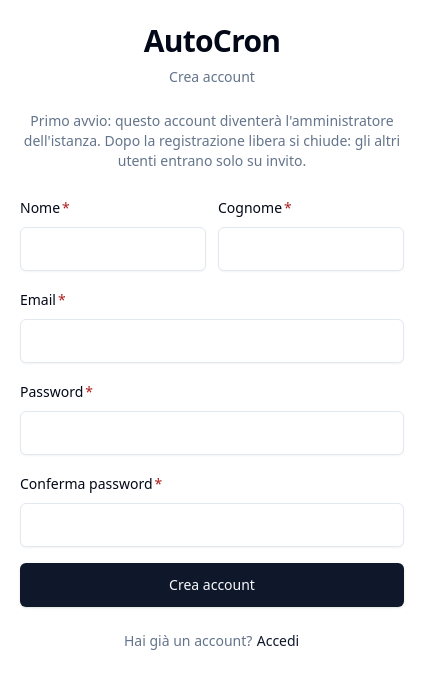
Test: RegisterPage — errori del server › un 422 su password compare sotto il campo, senza alert generico
In the field labelled "Nome*": (113, 249) [20, 227, 206, 271], type "Anna"
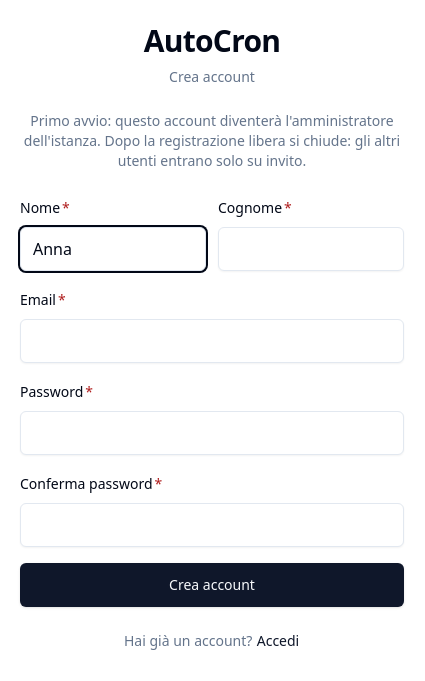
In the field labelled "Cognome*": (311, 249) [218, 227, 404, 271], type "Neri"
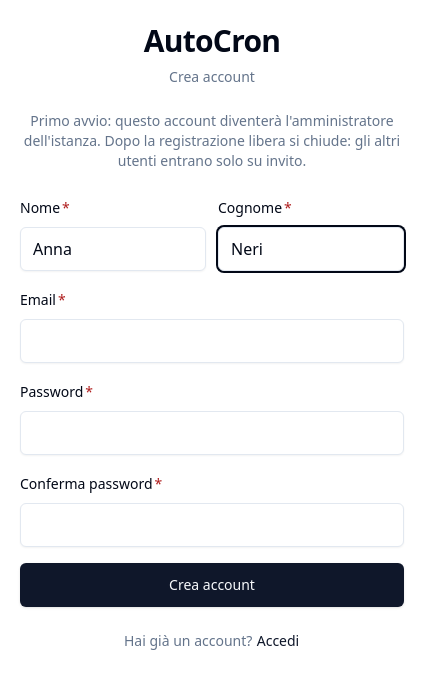
In the field labelled "Email*": (212, 341) [20, 319, 404, 363], type "anna@test.it"
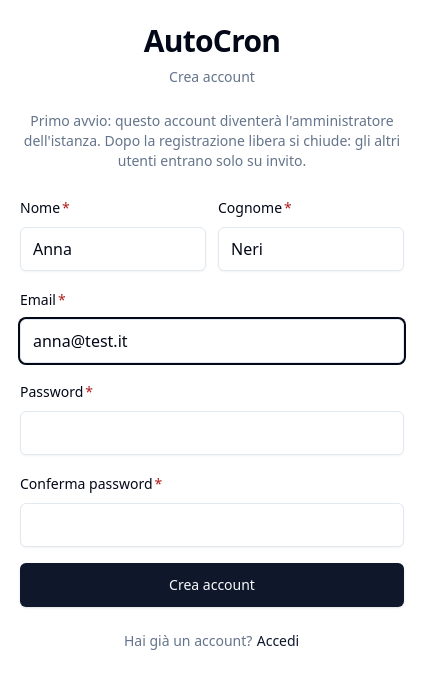
In the password field labelled "Password*": (212, 433) [20, 411, 404, 455], type "segreta-123"
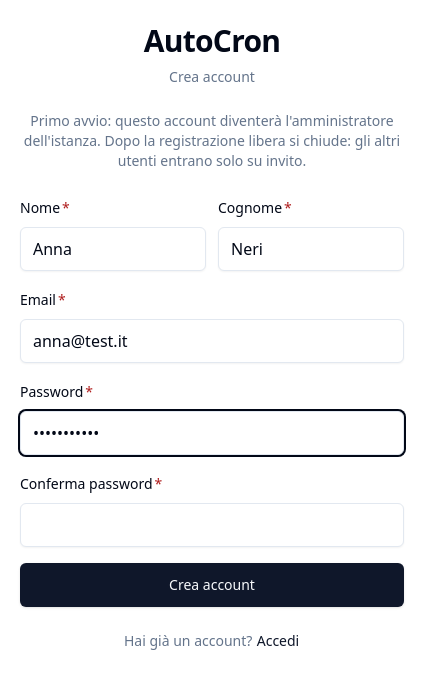
In the password field labelled "Conferma password*": (212, 525) [20, 503, 404, 547], type "segreta-123"
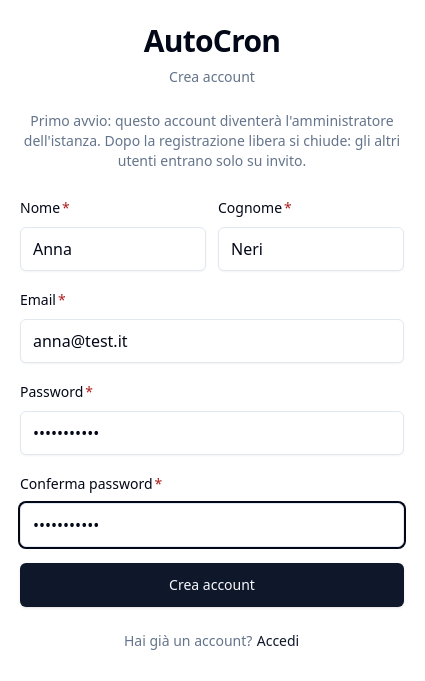
Click the button "Crea account": (212, 585) [20, 563, 404, 607]
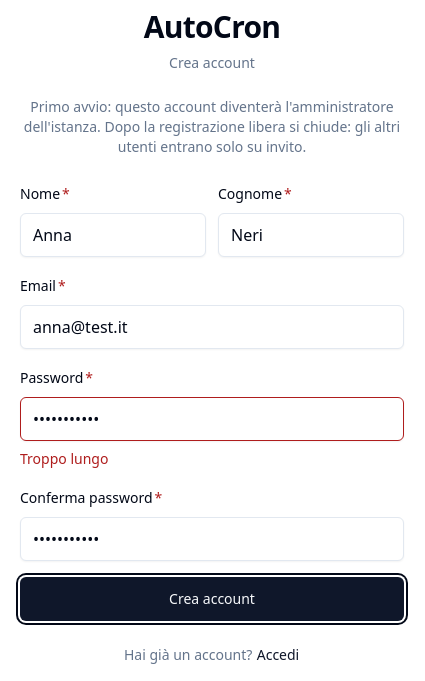
Expected: the number of messages is 1, [20, 449, 108, 468]
